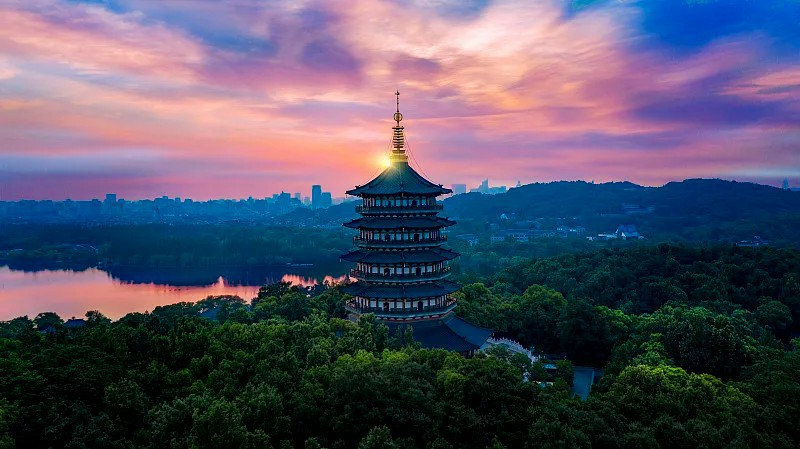Leifeng: (340, 92, 463, 323)
